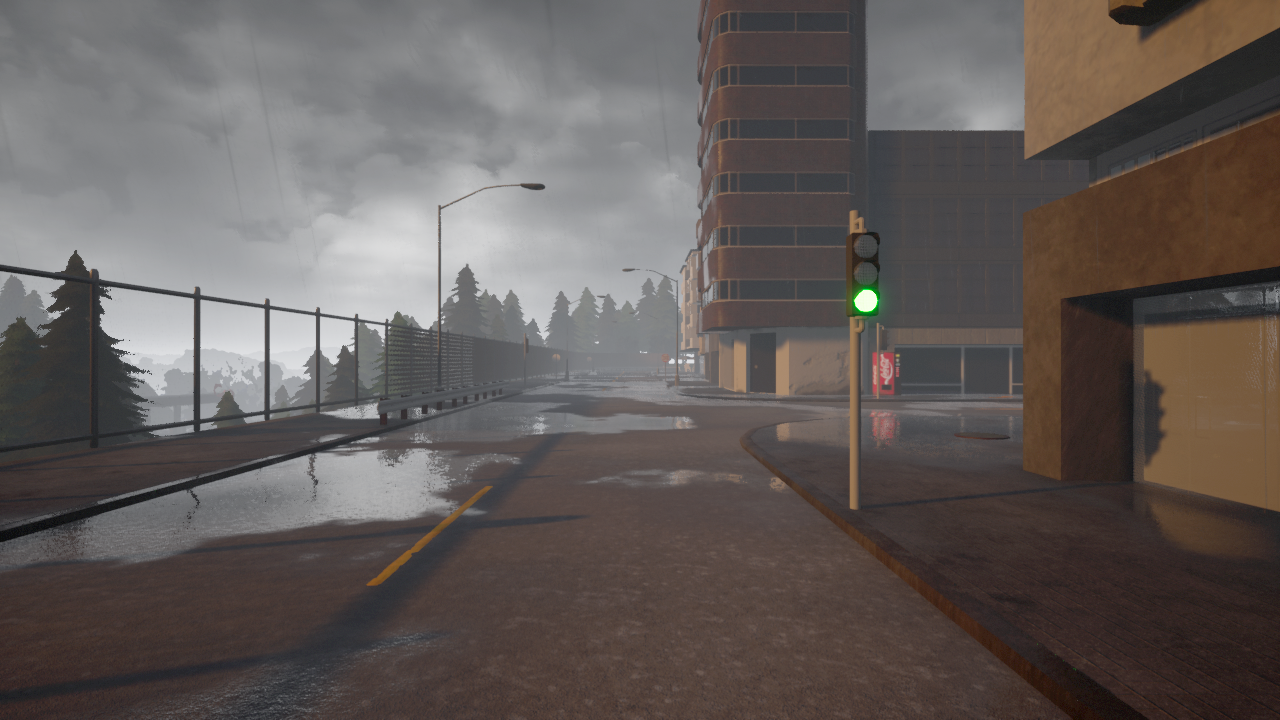green: (844, 228, 881, 319)
